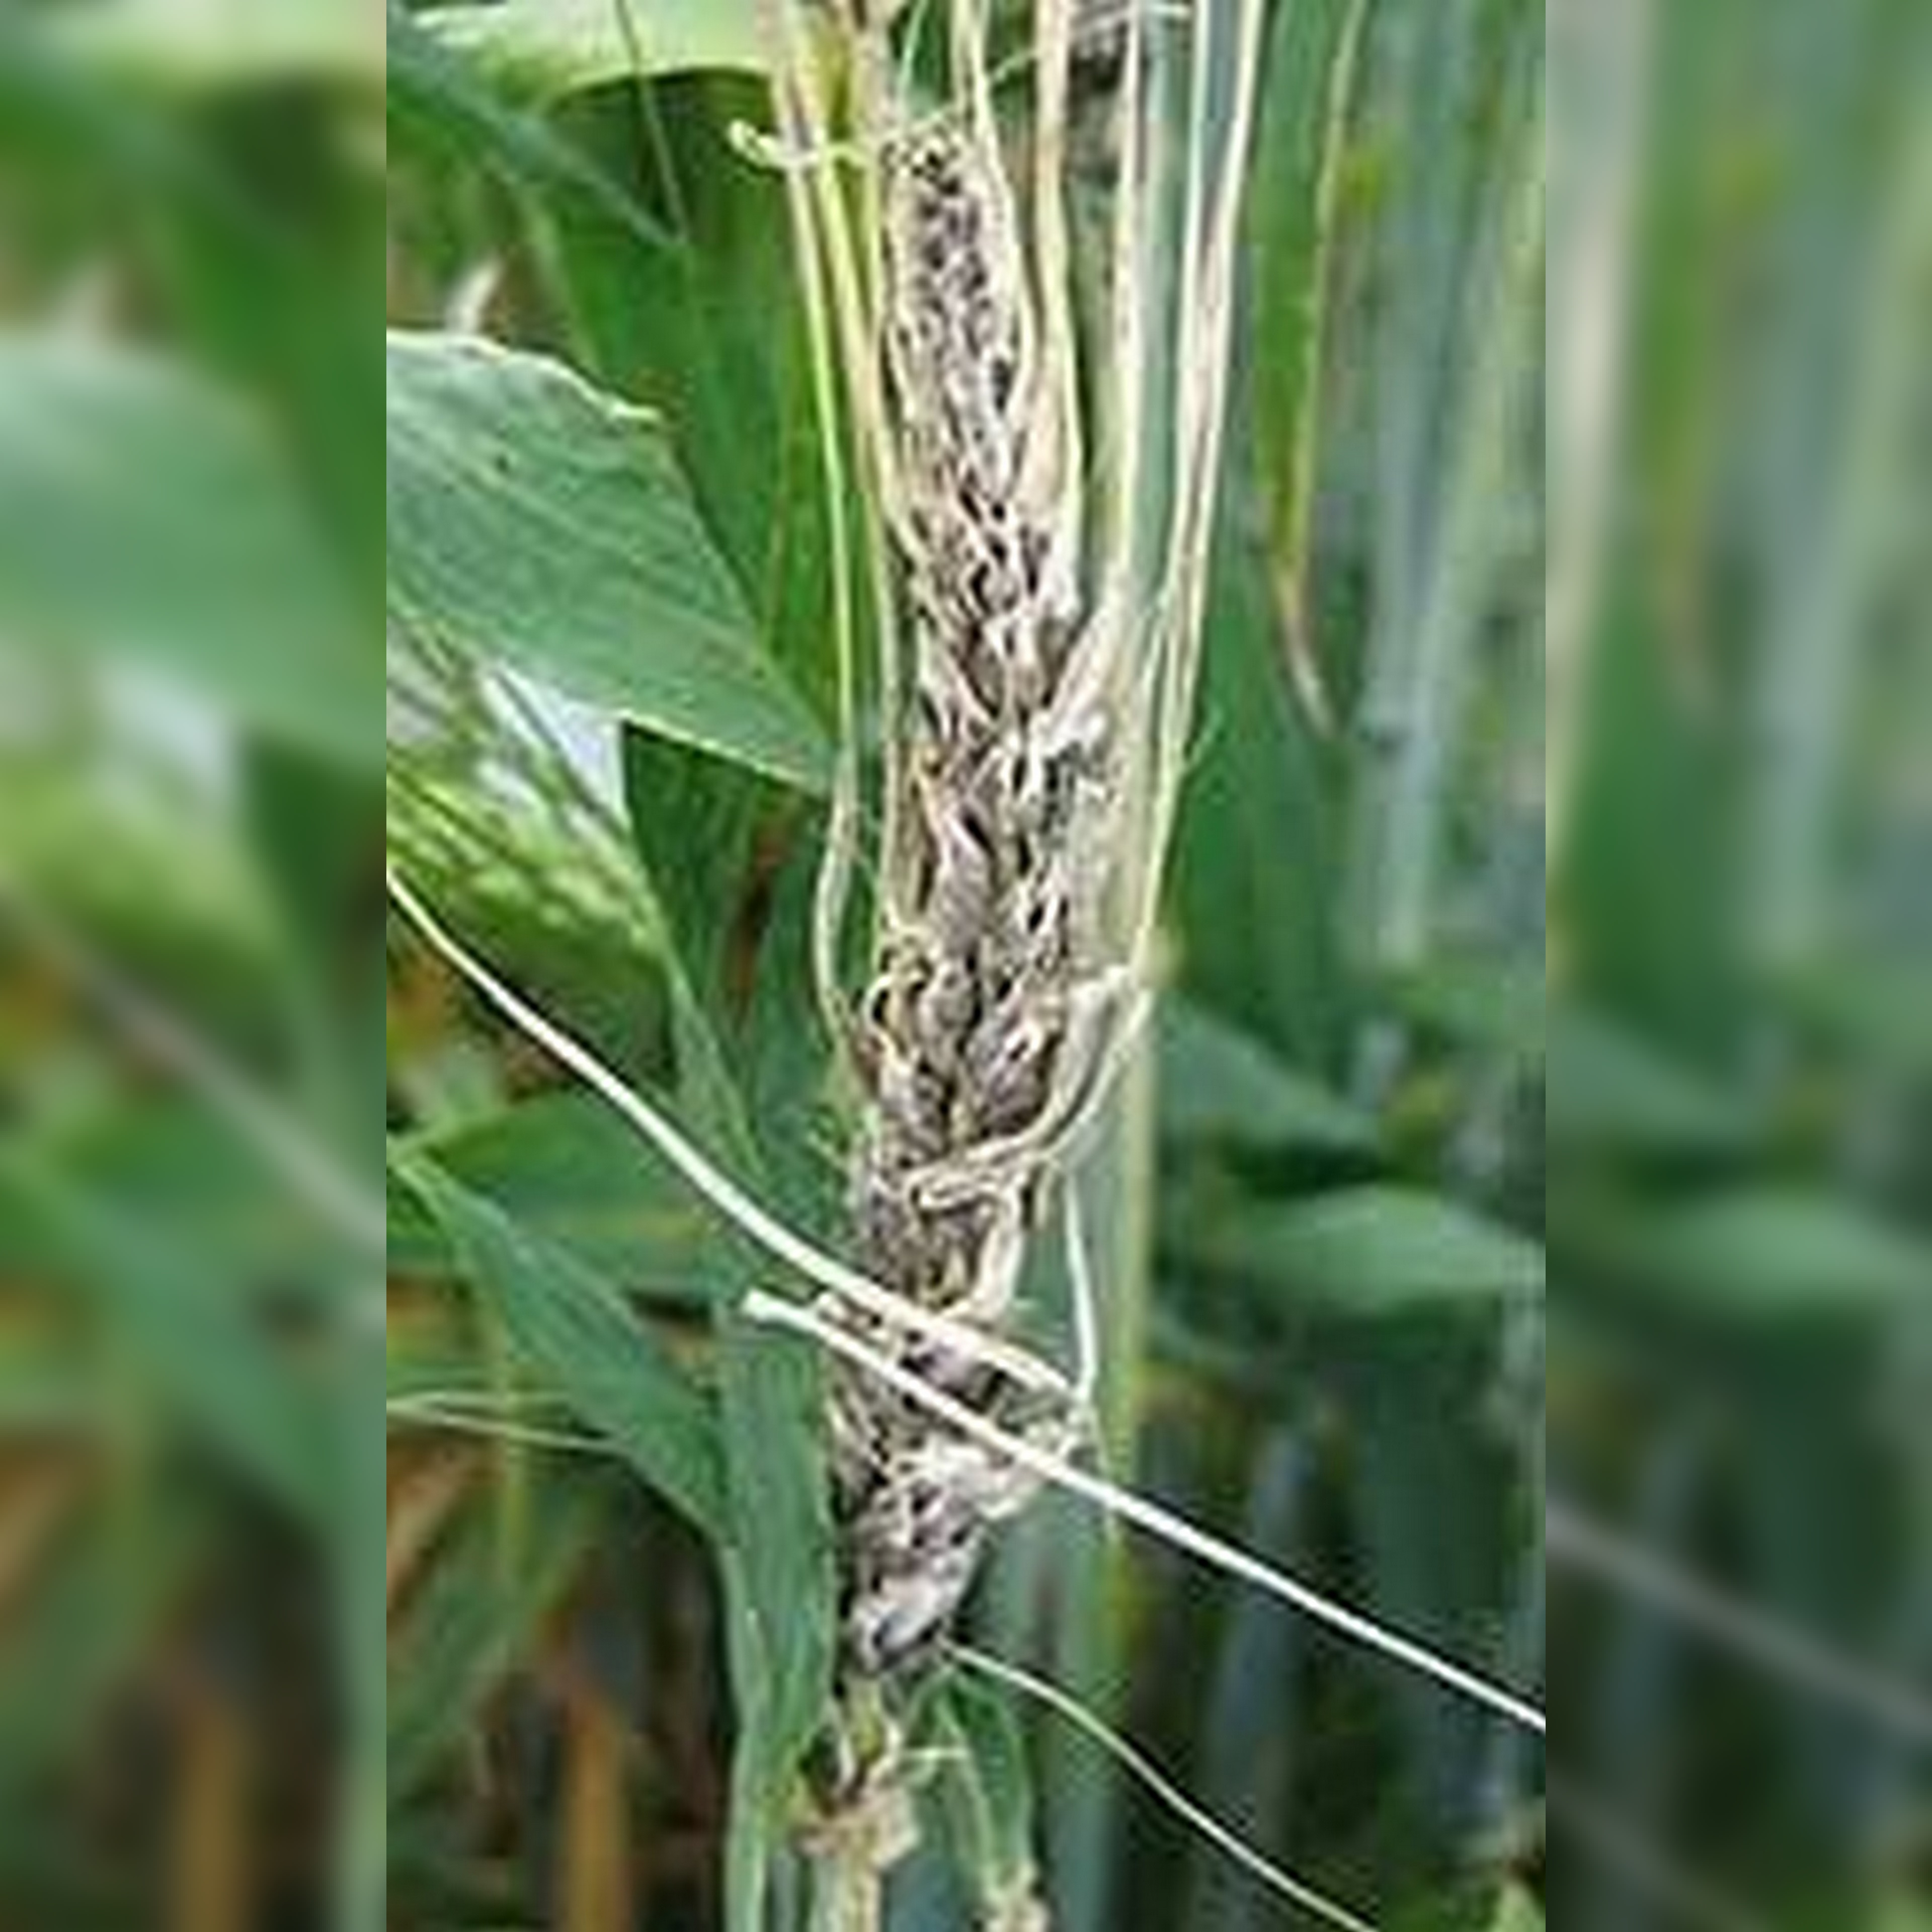Wheat Loose Smut: (782, 104, 1109, 1660)
